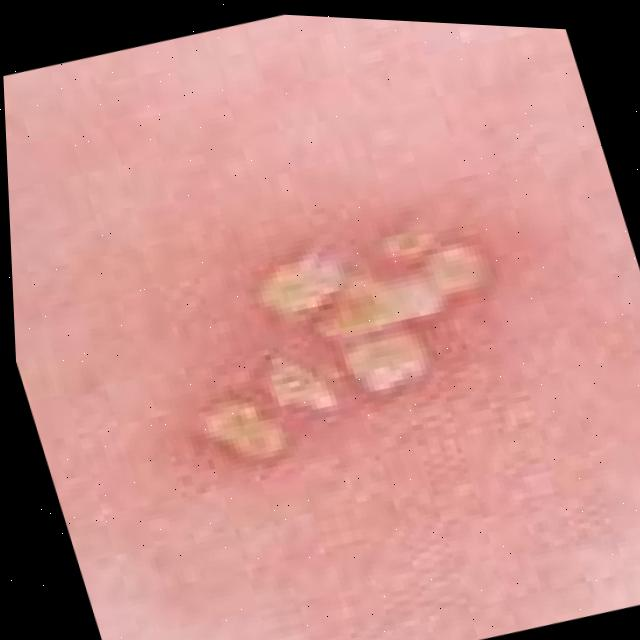Shingles: (141, 187, 541, 500)
